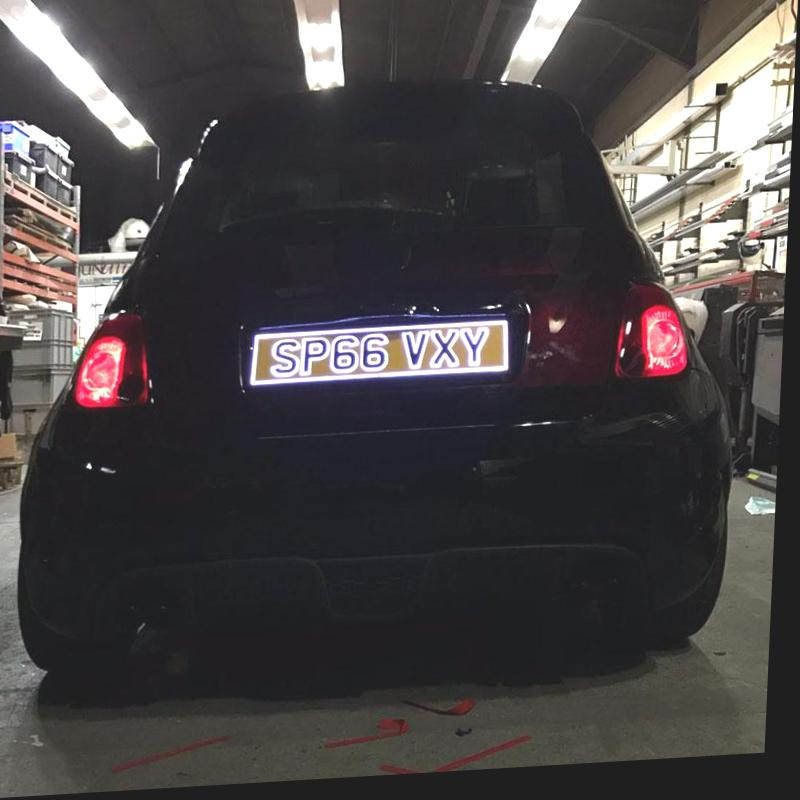License_Plate: (247, 313, 518, 393)
